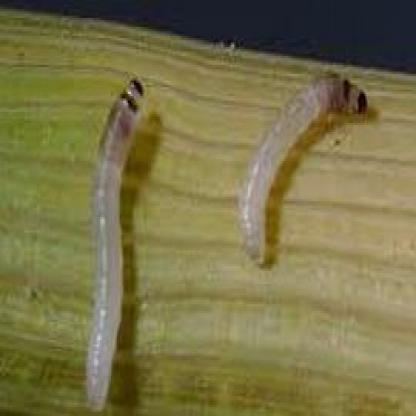whorl-maggot: (233, 72, 370, 270), (80, 71, 152, 416)
